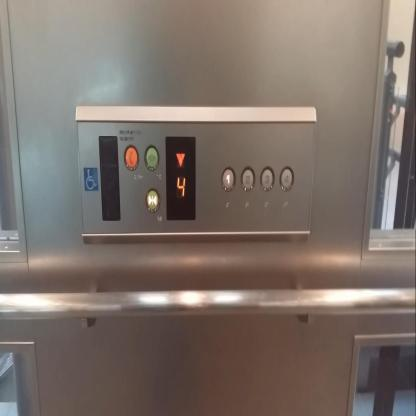1: (220, 165, 236, 193)
2: (239, 164, 255, 192)
3: (259, 163, 275, 192)
4: (278, 164, 296, 192)
CH: (82, 165, 99, 196)
call: (123, 142, 139, 172)
close: (144, 187, 161, 214)
led: (164, 134, 197, 221), (98, 132, 121, 223)
open: (143, 142, 160, 171)
